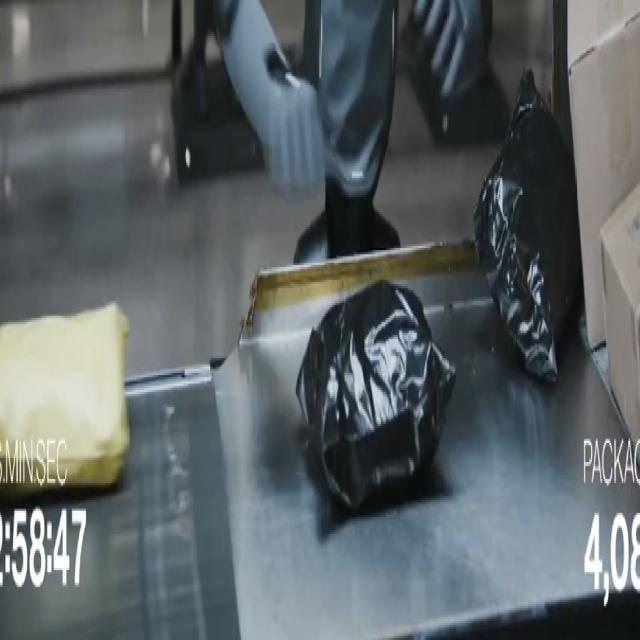package: (297, 282, 455, 510), (475, 73, 580, 381), (568, 0, 639, 347), (0, 306, 129, 493), (601, 187, 639, 440)
